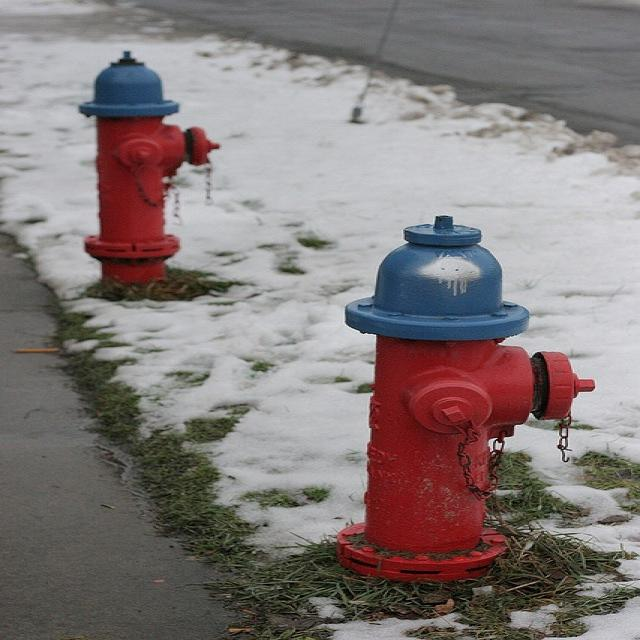fire_hydrant: (331, 213, 600, 582), (75, 47, 220, 281)
